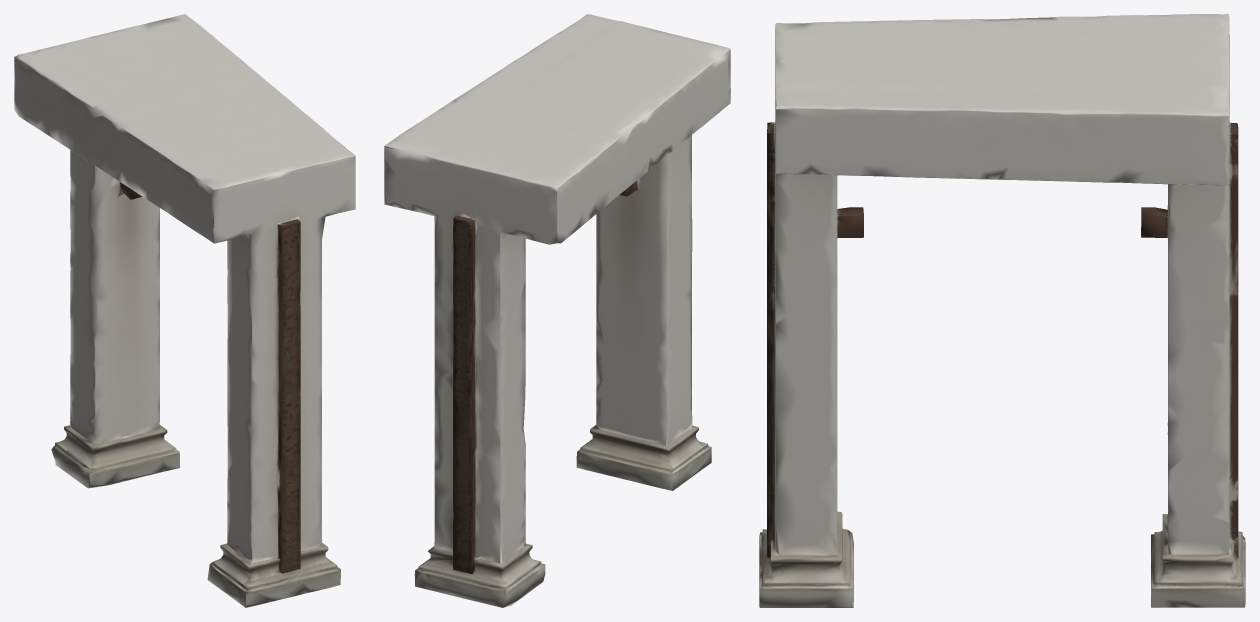
Rendered from pilar_depan_westin.glb.
3 renders of one model, left to right at view 1: azimuth 30°, elevation 25°; view 2: azimuth 150°, elevation 25°; view 3: azimuth 270°, elevation 25°, orthographic. The views are drawn at different scales.
Parts seen in each view (by area): view 1: tripo_node_308397f7-94b9-4622-a50a-1143f420c8ab; view 2: tripo_node_308397f7-94b9-4622-a50a-1143f420c8ab; view 3: tripo_node_308397f7-94b9-4622-a50a-1143f420c8ab.
Part boxes in pixels (bbox=[...]): tripo_node_308397f7-94b9-4622-a50a-1143f420c8ab: bbox=[14, 14, 355, 607]; tripo_node_308397f7-94b9-4622-a50a-1143f420c8ab: bbox=[384, 14, 730, 607]; tripo_node_308397f7-94b9-4622-a50a-1143f420c8ab: bbox=[759, 14, 1245, 607].
Bounding box in the file's own units: 0.4244 × 1 × 0.8548.
1 material, 1 textured.
